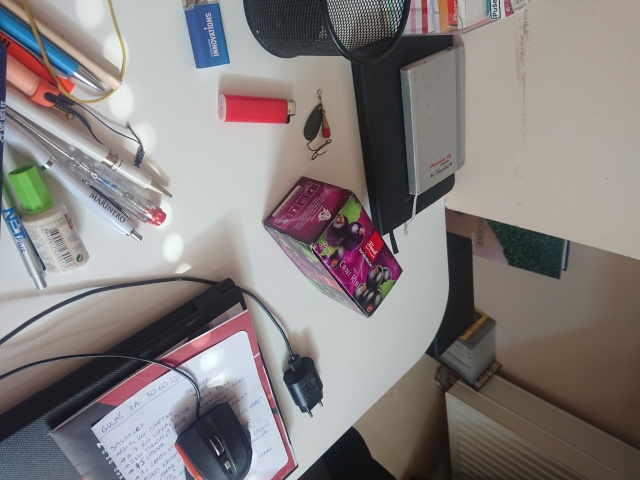Franck Black Currant Tea 60g: (260, 174, 405, 320)
